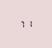one: (26, 19, 32, 27)
seven: (19, 20, 25, 28)
